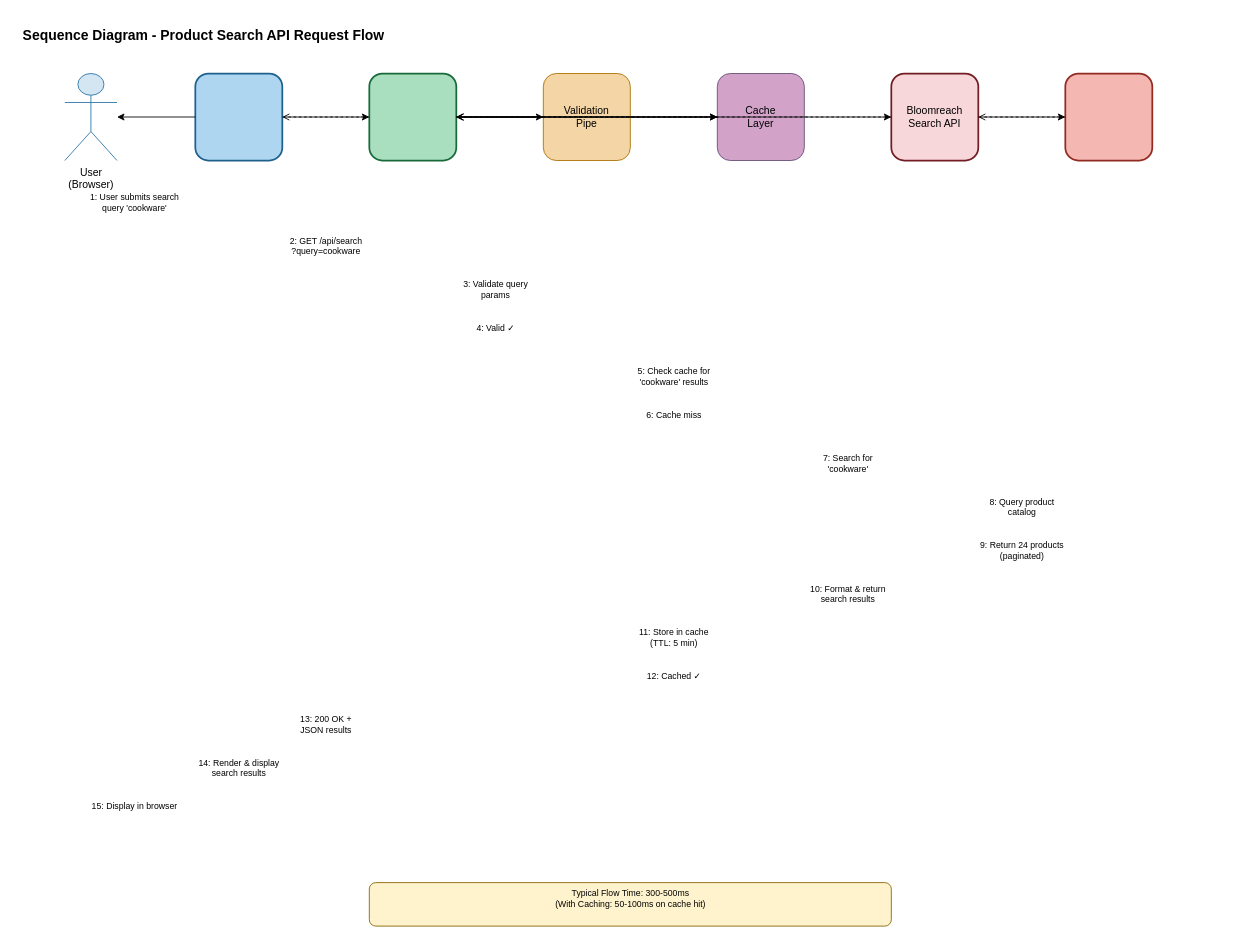
Image size: 1255x941. Some labels were removed from this diagram. Each missing label, with the centre of its shape:
"BFF API Gateway" belongs at point 412,116.
"React App (SSR)" belongs at point 238,116.
"SFCC Backend" belongs at point 1108,116.
